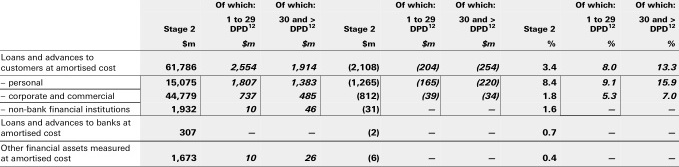column: (1, 1, 132, 167), (395, 1, 441, 166), (456, 1, 500, 167), (576, 1, 619, 167), (636, 1, 679, 167), (216, 1, 257, 167), (275, 1, 316, 167), (163, 1, 199, 167), (344, 1, 380, 167), (523, 1, 556, 167)
row: (3, 24, 679, 34), (1, 53, 679, 62), (1, 105, 679, 114), (1, 153, 679, 162), (1, 62, 676, 71), (1, 15, 679, 23), (1, 79, 679, 87), (1, 92, 679, 100), (1, 128, 679, 136), (1, 144, 679, 152), (3, 2, 679, 10), (1, 118, 677, 126), (1, 40, 679, 47)
